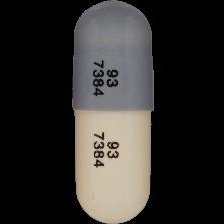63629-4725: (0, 0, 224, 224)
